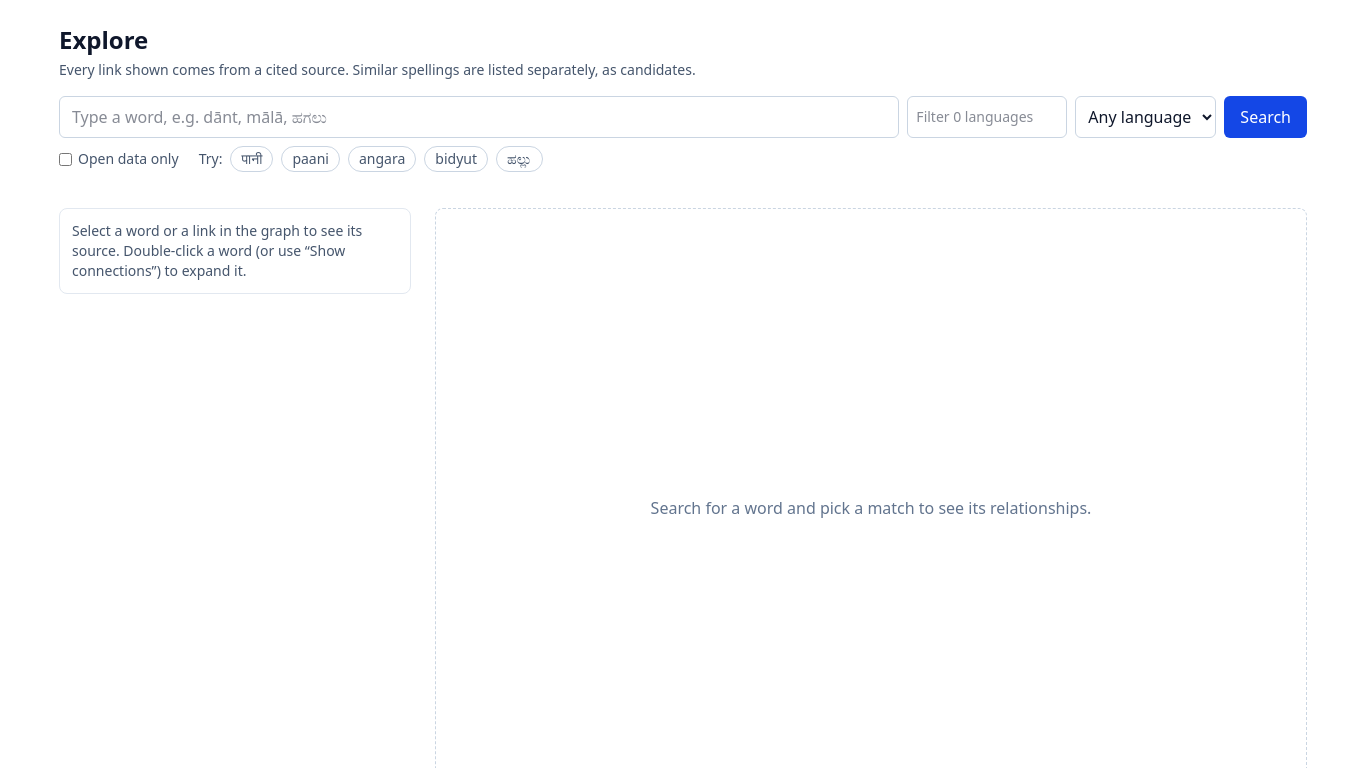
ExplorePage › lists exact matches separately from spelling candidates
This screenshot has width=1366, height=768.
In the field labelled "word": (479, 117) [59, 96, 899, 138], type "dānt"
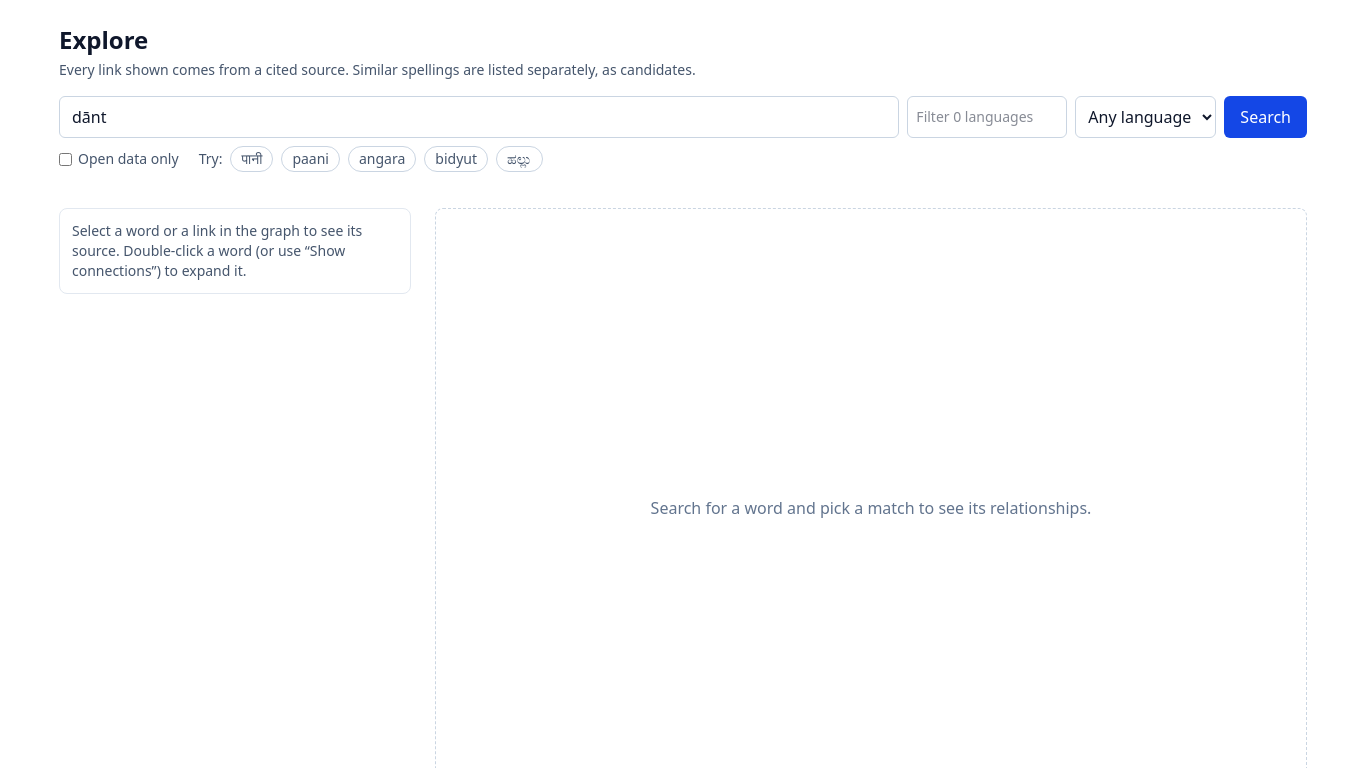
Click the button "Search": click(1266, 117) [1224, 96, 1307, 138]
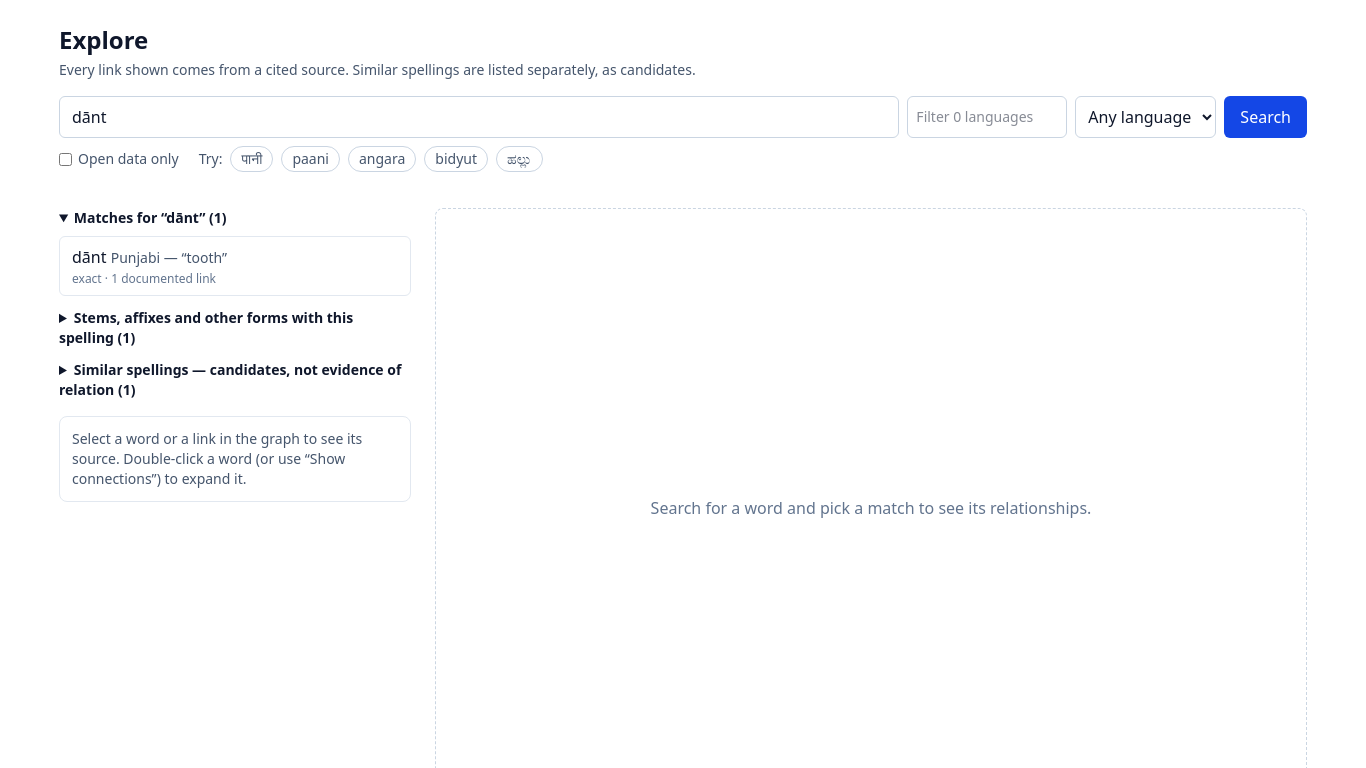
Expected: the heading "Matches for “dānt” (1)" is shown, [74, 208, 227, 227]
Expected: the text "exact · 1 documented link" is shown, [72, 270, 216, 287]
Expected: the heading "Similar spellings — candidates, not evidence of relation (1)" is shown, [59, 360, 411, 400]
